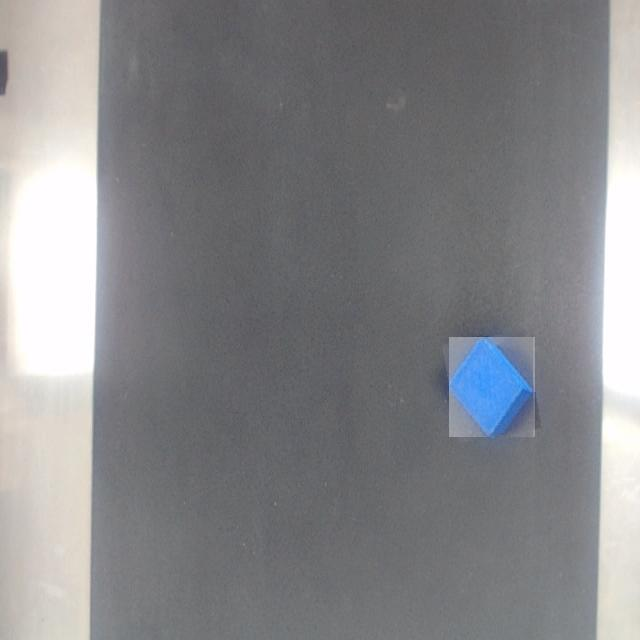Azul: (449, 338, 535, 437)
